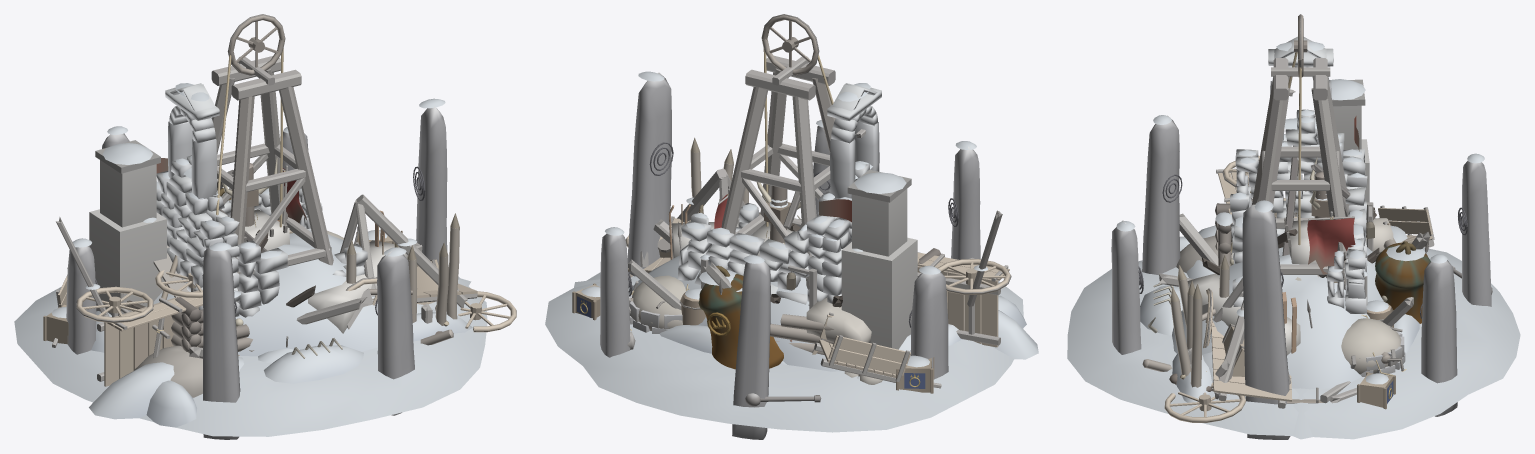
Rendered from stories_cold.glb.
3 views of the same model, side by side, from view 1: azimuth 30°, elevation 25°; view 2: azimuth 150°, elevation 25°; view 3: azimuth 270°, elevation 25° (orthographic).
Visible parts, largest first — view 1: story_old_ones_ring, story_buried_cabin, story_wrecked_convoy, story_hermitage, story_mine_head, story_ruined_homestead, story_quarry, story_frozen_memorial; view 2: story_old_ones_ring, story_buried_cabin, story_hermitage, story_wrecked_convoy, story_mine_head, story_ruined_homestead, story_quarry, story_rockfall_wagon, story_lost_camp; view 3: story_old_ones_ring, story_wrecked_convoy, story_buried_cabin, story_hermitage, story_mine_head, story_ruined_homestead, story_quarry, story_rockfall_wagon, story_frozen_memorial, story_lost_camp.
Part boxes in pixels (x1,y1,x2,y2): story_old_ones_ring: (14,98,487,439); story_buried_cabin: (89,140,435,358); story_wrecked_convoy: (43,188,516,419); story_hermitage: (118,83,367,427); story_mine_head: (134,14,442,397); story_ruined_homestead: (52,213,472,355); story_quarry: (160,209,407,351); story_frozen_memorial: (282,165,358,347); story_old_ones_ring: (545,71,1023,439); story_buried_cabin: (627,169,974,379); story_hermitage: (660,83,1026,364); story_wrecked_convoy: (572,168,1038,406); story_mine_head: (628,14,964,330); story_ruined_homestead: (627,137,941,388); story_quarry: (656,219,882,384); story_rockfall_wagon: (632,275,685,330); story_lost_camp: (629,199,851,330); story_old_ones_ring: (1067,115,1520,439); story_wrecked_convoy: (1140,76,1492,439); story_buried_cabin: (1158,79,1430,389); story_hermitage: (1180,36,1419,353); story_mine_head: (1169,14,1374,403); story_ruined_homestead: (1142,203,1434,407); story_quarry: (1182,191,1402,355); story_rockfall_wagon: (1295,276,1402,374); story_frozen_memorial: (1307,211,1429,328); story_lost_camp: (1282,116,1406,375).
Bounding box in the file's own units: 7.36 × 6.34 × 6.88.
